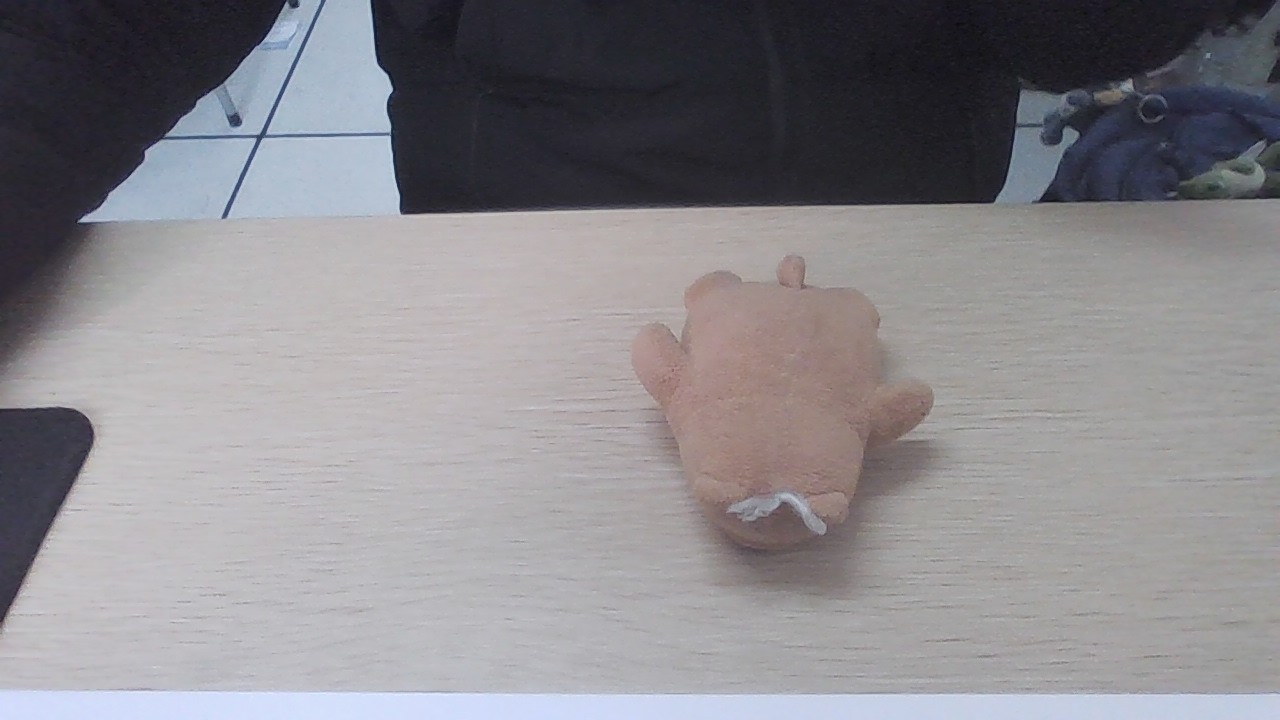KHS-doll: (648, 275, 908, 535)
